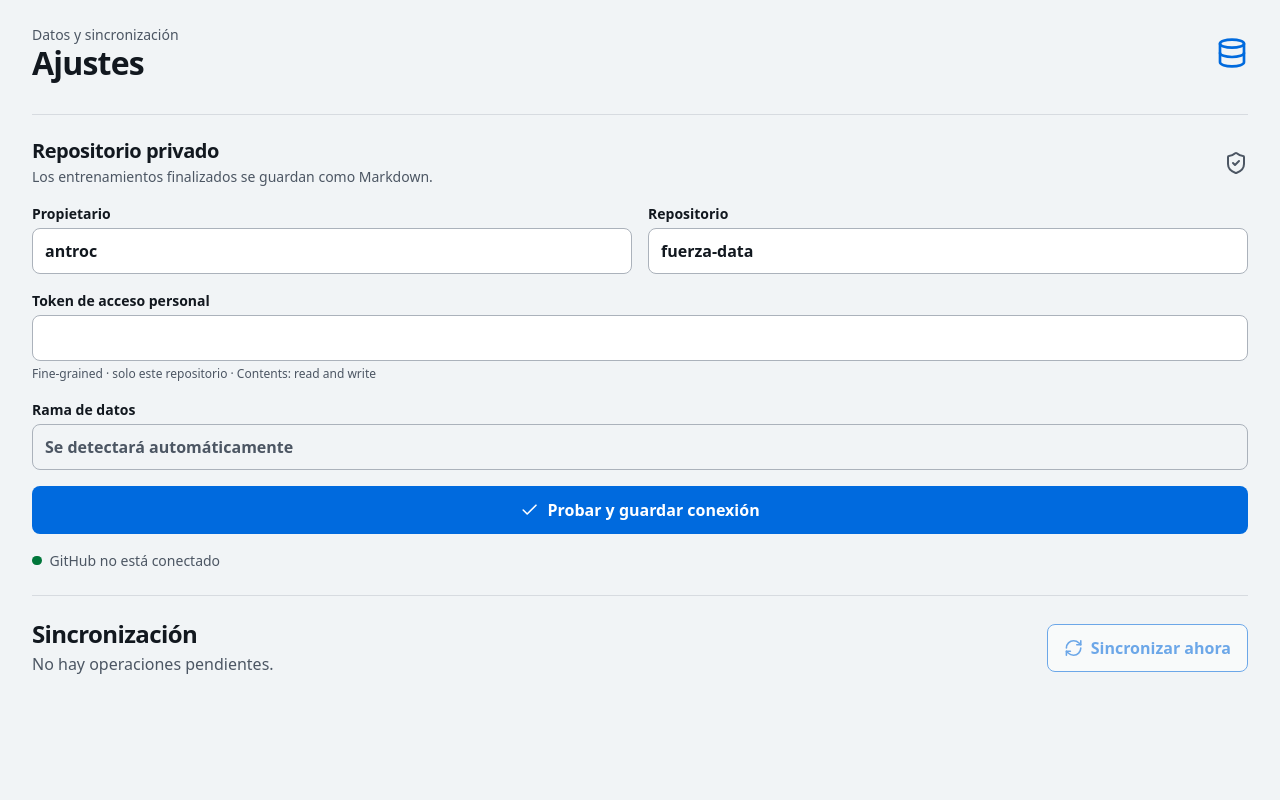
it: application pages › tests the GitHub connection before reporting it as saved
The image size is (1280, 800).
Step 1. Type "github-token" into the password field labelled "Token de acceso personal" → (640,338), box x1=32 y1=315 x2=1248 y2=361
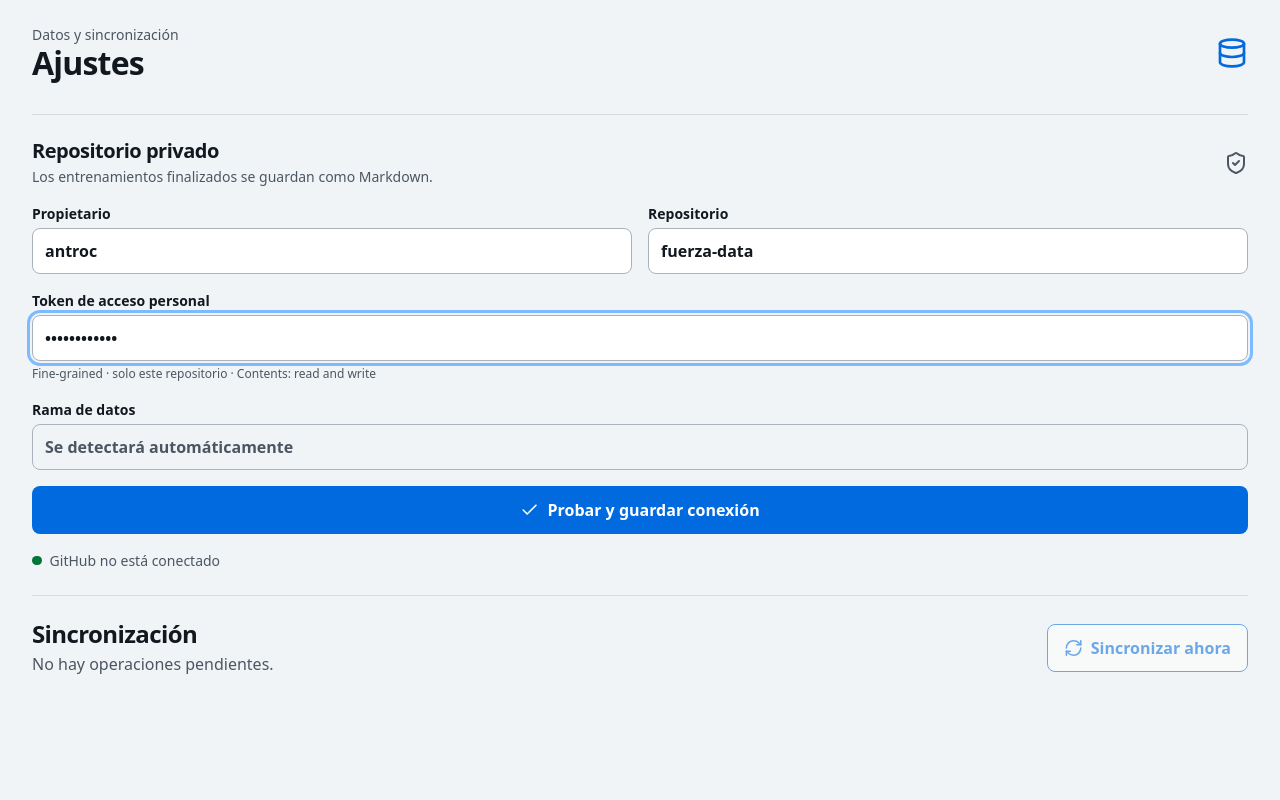
Step 2. Click the button "Probar y guardar conexión" → (640,510), box x1=32 y1=486 x2=1248 y2=534
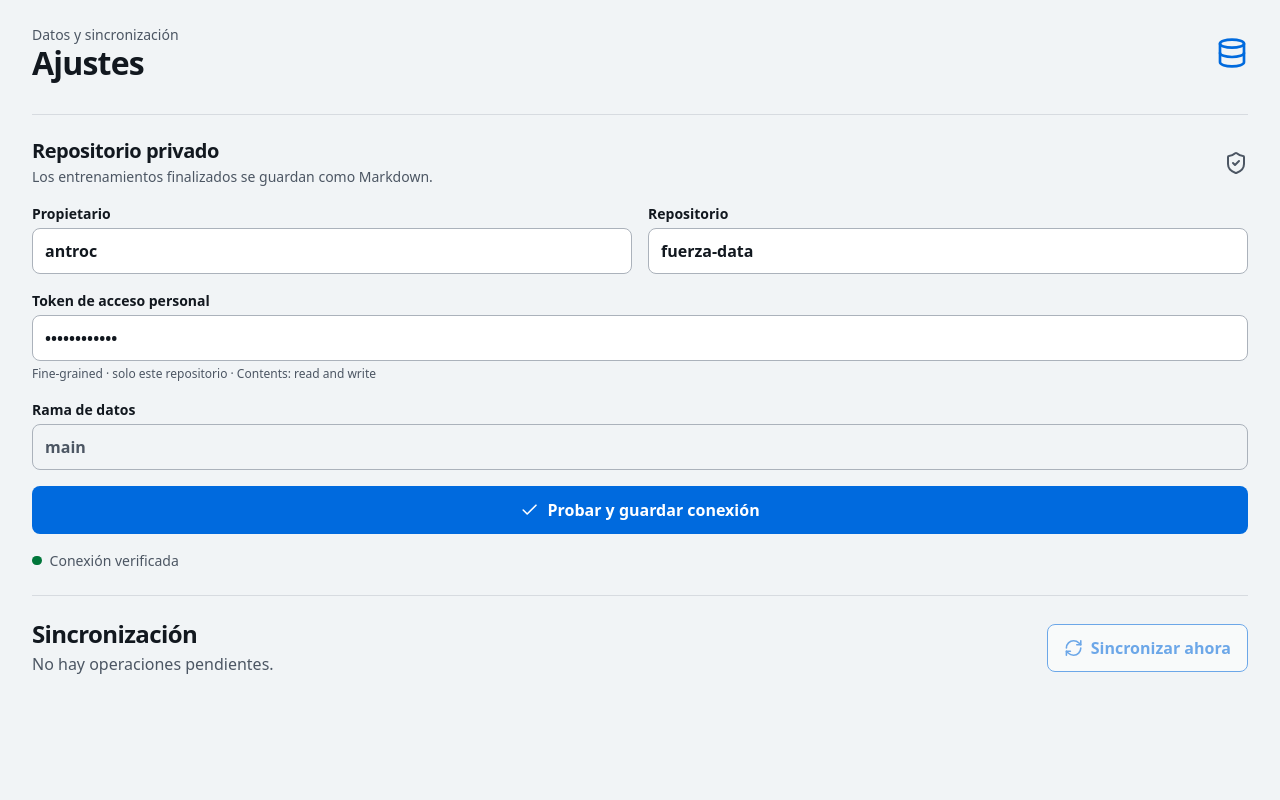
Expected: the message reads "Conexión verificada", x1=50 y1=551 x2=179 y2=570
